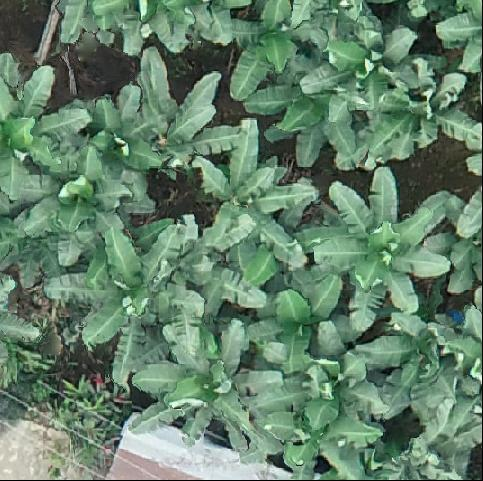Banana-plant: (131, 316, 285, 458), (79, 222, 209, 388), (312, 165, 455, 315), (94, 47, 249, 176), (194, 121, 319, 267), (21, 143, 159, 265), (358, 310, 483, 420), (302, 14, 438, 115), (0, 53, 93, 199), (243, 56, 359, 169), (363, 58, 479, 165), (259, 394, 385, 481), (248, 275, 352, 378), (225, 0, 327, 101)
